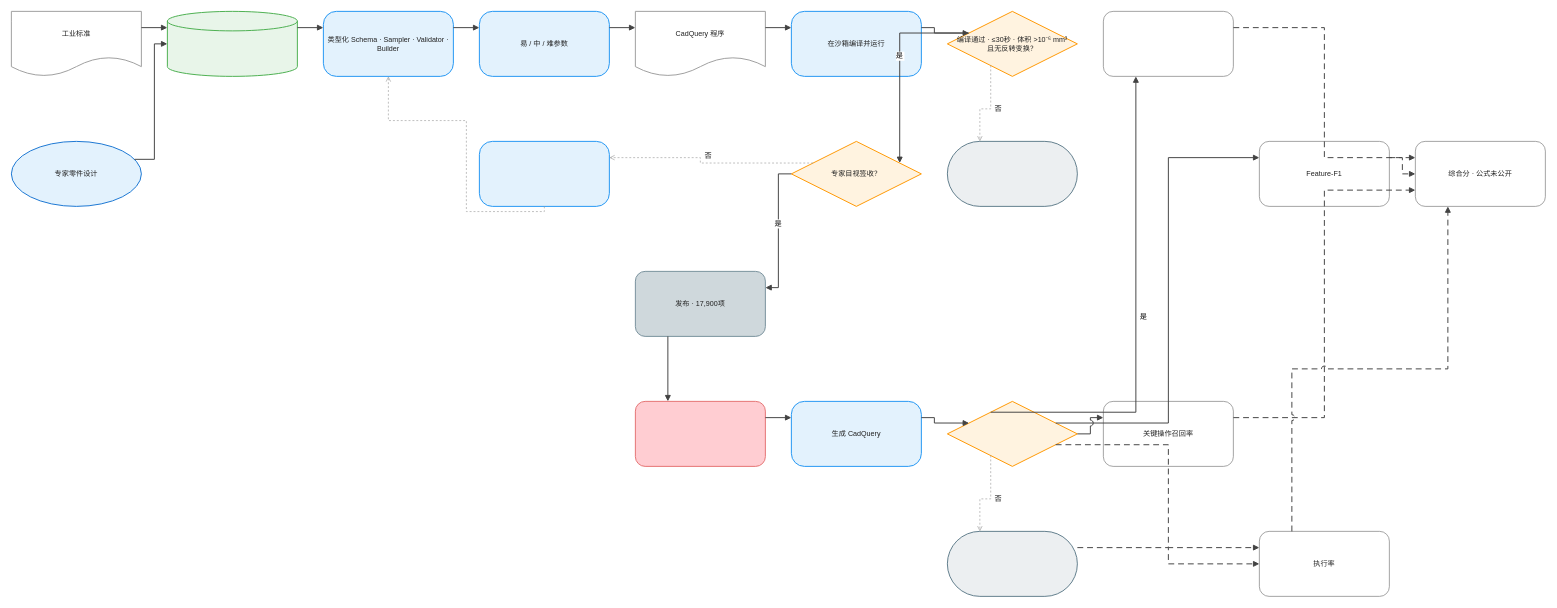
This 1557x608 diagram has some shape labels left out. The centre of each missing label's shape, as x and y in pixels:
"106 类零件族" belongs at pixel 232 44.
"4个标准正投影视图" belongs at pixel 700 434.
"Voxel IoU · Chamfer · Hausdorff" belongs at pixel 1168 43.
"修订生成器/零件族" belongs at pixel 544 174.
"执行失败" belongs at pixel 1012 564.
"生成代码可执行？" belongs at pixel 1012 434.
"隔离区" belongs at pixel 1012 174.
